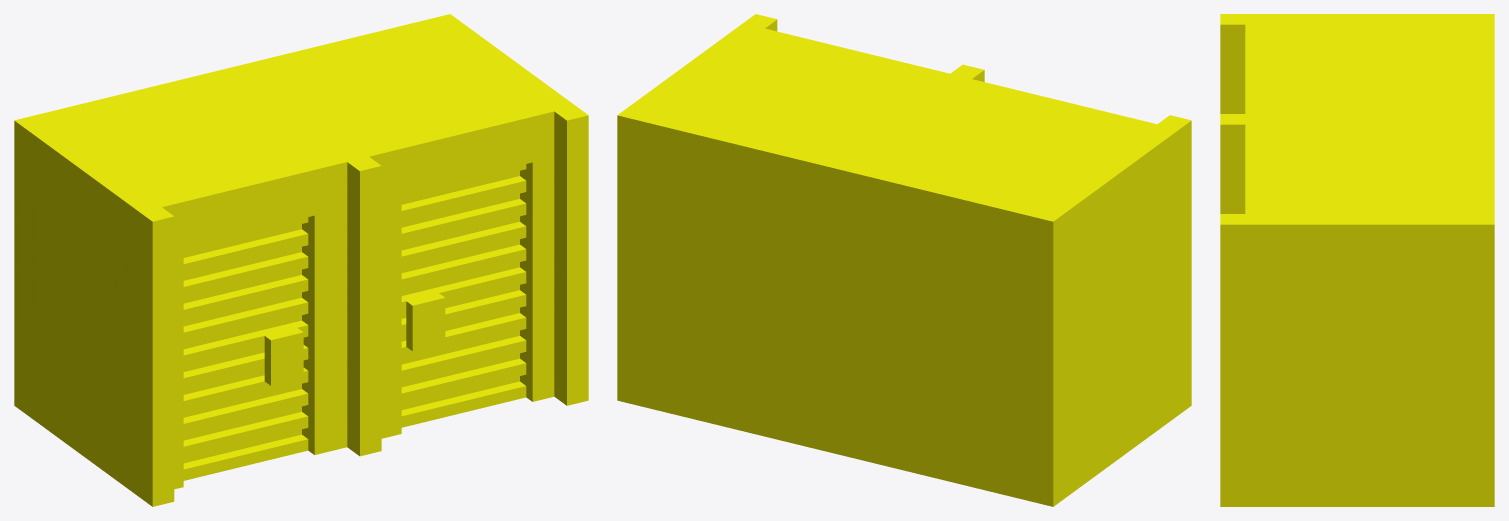
3 views of the same model, side by side, from view 1: azimuth 30°, elevation 25°; view 2: azimuth 150°, elevation 25°; view 3: azimuth 270°, elevation 25° (orthographic).
Parts seen in each view (by area): view 1: BuildingBlock_19; view 2: BuildingBlock_19; view 3: BuildingBlock_19.
Part boxes in pixels (box(x1,y1,x2,y2)): BuildingBlock_19: box(14, 14, 588, 506); BuildingBlock_19: box(617, 14, 1191, 506); BuildingBlock_19: box(1220, 14, 1494, 506).
Bounding box in the file's own units: 4 × 2.5 × 2.2.
1 material, 1 textured.
